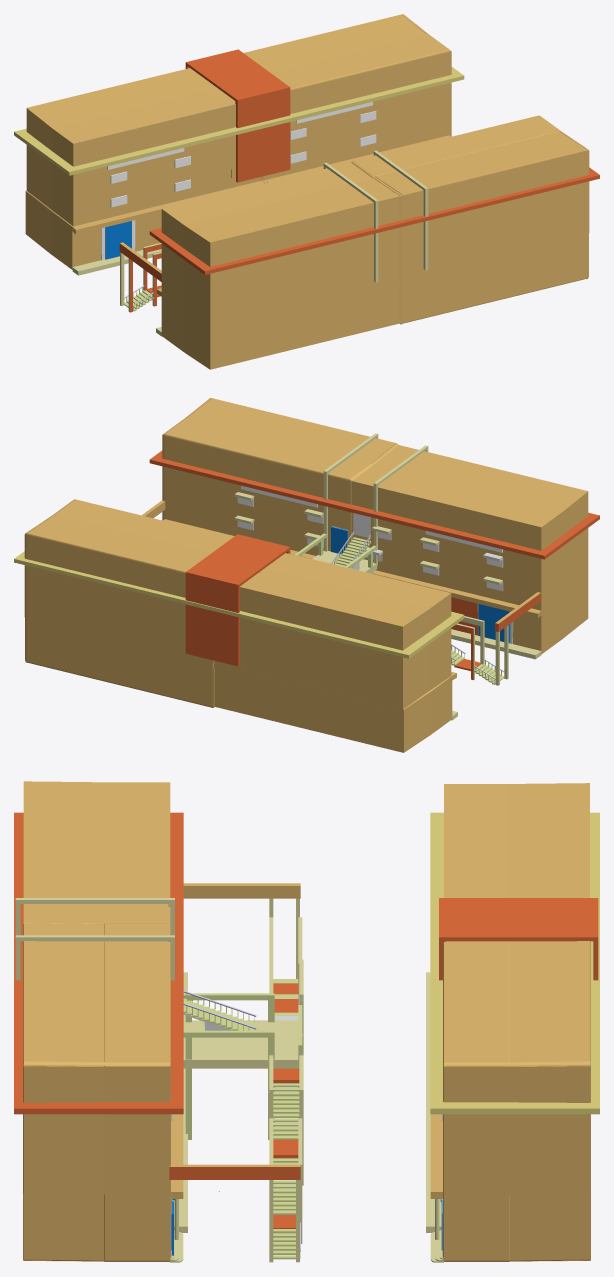
Rendered from Exhibition Hall_1.fbx.
3 renders of one model, top to bottom at view 1: azimuth 30°, elevation 25°; view 2: azimuth 150°, elevation 25°; view 3: azimuth 270°, elevation 25°, orthographic. The views are drawn at different scales.
Parts seen in each view (by area): view 1: Cube, Cube.066, Cube.067, Cube.069, Cube.065, Cube.068, Cube.022, Cube.074, Cube.028, Plane.010, Cube.037; view 2: Cube.066, Cube, Cube.067, Cube.065, Cube.069, Cube.068, Plane.001, Cube.081, Cube.022, Cube.028, Cube.023, Cube.037; view 3: Cube, Cube.066, Cube.065, Cube.069, Cube.067, Plane.005, Cube.001, Cube.037, Plane.010, Cube.011, Cube.022, Cube.028 (+7 smaller).
Boxes of the visible parts, bbox=[...] form: Cube: bbox=[157, 115, 589, 369]; Cube.066: bbox=[25, 14, 451, 269]; Cube.067: bbox=[188, 49, 290, 170]; Cube.069: bbox=[14, 67, 464, 175]; Cube.065: bbox=[149, 167, 599, 274]; Cube.068: bbox=[185, 61, 287, 182]; Cube.022: bbox=[373, 150, 428, 270]; Cube.074: bbox=[105, 221, 131, 259]; Cube.028: bbox=[323, 162, 378, 282]; Plane.010: bbox=[72, 249, 161, 275]; Cube.037: bbox=[119, 242, 161, 281]; Cube.066: bbox=[24, 499, 456, 752]; Cube: bbox=[162, 398, 588, 654]; Cube.067: bbox=[185, 534, 287, 653]; Cube.065: bbox=[149, 450, 599, 559]; Cube.069: bbox=[14, 551, 464, 658]; Cube.068: bbox=[188, 546, 290, 666]; Plane.001: bbox=[451, 629, 541, 659]; Cube.081: bbox=[478, 604, 510, 642]; Cube.022: bbox=[323, 433, 378, 551]; Cube.028: bbox=[373, 445, 428, 565]; Cube.023: bbox=[334, 534, 371, 568]; Cube.037: bbox=[495, 592, 540, 631]; Cube: bbox=[23, 781, 183, 1261]; Cube.066: bbox=[430, 783, 590, 1261]; Cube.065: bbox=[14, 812, 183, 1114]; Cube.069: bbox=[430, 812, 599, 1114]; Cube.067: bbox=[439, 900, 598, 980]; Plane.005: bbox=[183, 1020, 298, 1068]; Cube.001: bbox=[169, 1164, 300, 1179]; Cube.037: bbox=[183, 883, 300, 898]; Plane.010: bbox=[426, 972, 441, 1232]; Cube.011: bbox=[273, 1083, 299, 1139]; Cube.022: bbox=[15, 935, 174, 980]; Cube.028: bbox=[15, 898, 174, 935].
Size of the model in its own units: 10456 by 3387 by 8752.
